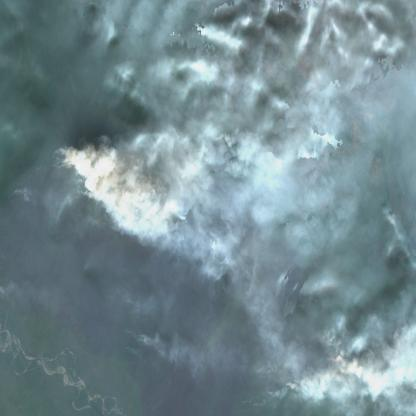fire: (0, 129, 247, 233), (281, 327, 379, 416)
